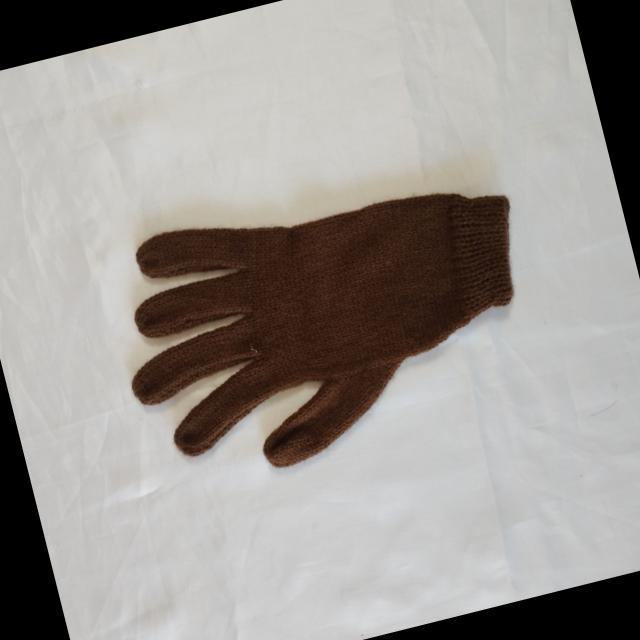Guante: (96, 146, 560, 499)
